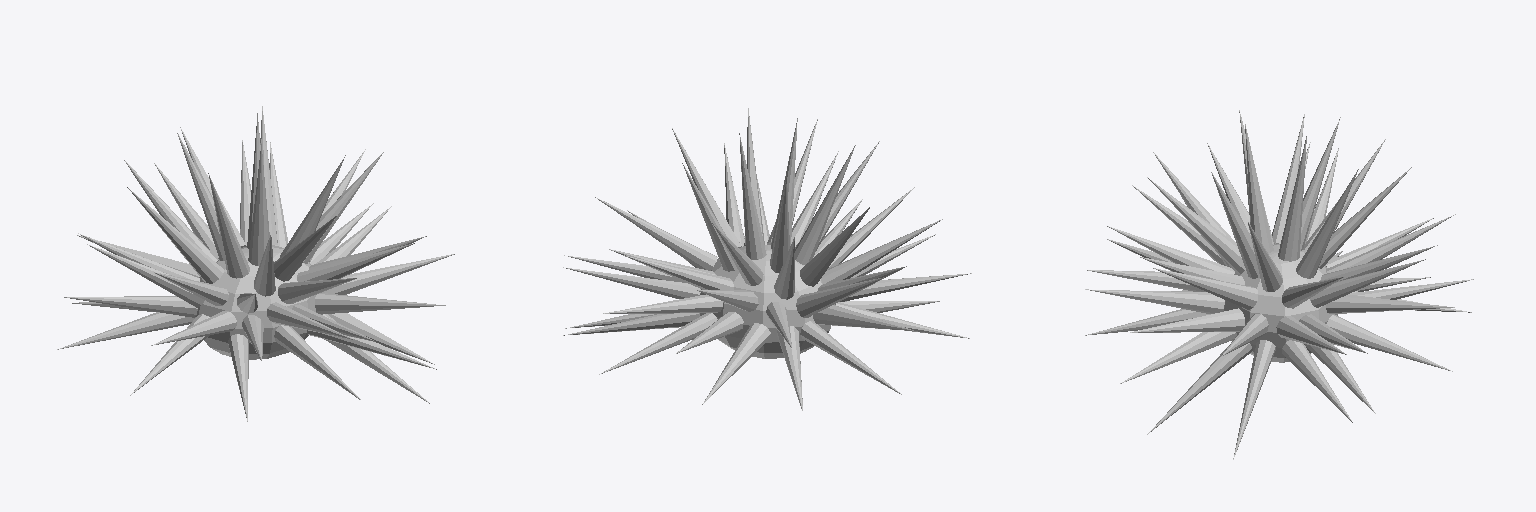
Rendered from urchin.obj.
The picture shows the model from 3 angles: view 1: azimuth 30°, elevation 25°; view 2: azimuth 150°, elevation 25°; view 3: azimuth 270°, elevation 25°; orthographic projection.
Visible parts, largest first — view 1: 047_Sphere, 030_Cone_17, 037_Cone_9, 022_Cone_26, 021_Cone_27, 032_Cone_15, 034_Cone_13, 006_Cone_44, 036_Cone_10, 041_Cone_5, 044_Cone_2, 025_Cone_22 (+25 smaller); view 2: 047_Sphere, 015_Cone_35, 032_Cone_15, 026_Cone_21, 033_Cone_14, 021_Cone_27, 013_Cone_37, 003_Cone_31, 016_Cone_34, 018_Cone_30, 011_Cone_39, 024_Cone_23 (+23 smaller); view 3: 047_Sphere, 038_Cone_8, 044_Cone_2, 033_Cone_14, 016_Cone_34, 037_Cone_9, 039_Cone_7, 018_Cone_30, 010_Cone_40, 009_Cone_41, 029_Cone_18, 000_Cone_12 (+26 smaller).
Part boxes in pixels (x1,y1,x2,y2): 047_Sphere: (194,245,324,359); 030_Cone_17: (127,187,223,283); 037_Cone_9: (315,293,445,313); 022_Cone_26: (64,296,197,317); 021_Cone_27: (57,312,193,349); 032_Cone_15: (208,173,249,278); 034_Cone_13: (248,143,269,265); 006_Cone_44: (274,325,360,399); 036_Cone_10: (325,254,454,294); 041_Cone_5: (297,243,414,281); 044_Cone_2: (274,216,336,281); 025_Cone_22: (87,244,204,307); 047_Sphere: (700,245,834,358); 015_Cone_35: (595,197,717,270); 032_Cone_15: (795,145,855,264); 026_Cone_21: (821,219,942,283); 033_Cone_14: (739,133,766,259); 021_Cone_27: (800,321,901,394); 013_Cone_37: (563,267,700,298); 003_Cone_31: (702,323,770,404); 016_Cone_34: (599,313,717,374); 018_Cone_30: (603,295,722,313); 011_Cone_39: (563,313,699,335); 024_Cone_23: (796,276,887,317); 047_Sphere: (1224,243,1337,362); 038_Cone_8: (1085,289,1224,313); 044_Cone_2: (1147,177,1245,273); 033_Cone_14: (1278,136,1306,261); 016_Cone_34: (1326,315,1452,371); 037_Cone_9: (1130,308,1244,332); 039_Cone_7: (1153,268,1258,309); 018_Cone_30: (1326,294,1454,313); 010_Cone_40: (1233,340,1275,459); 009_Cone_41: (1147,342,1252,434); 029_Cone_18: (1296,169,1358,278); 000_Cone_12: (1120,332,1236,383).
Bounding box in the file's own units: 271 × 196 × 269.